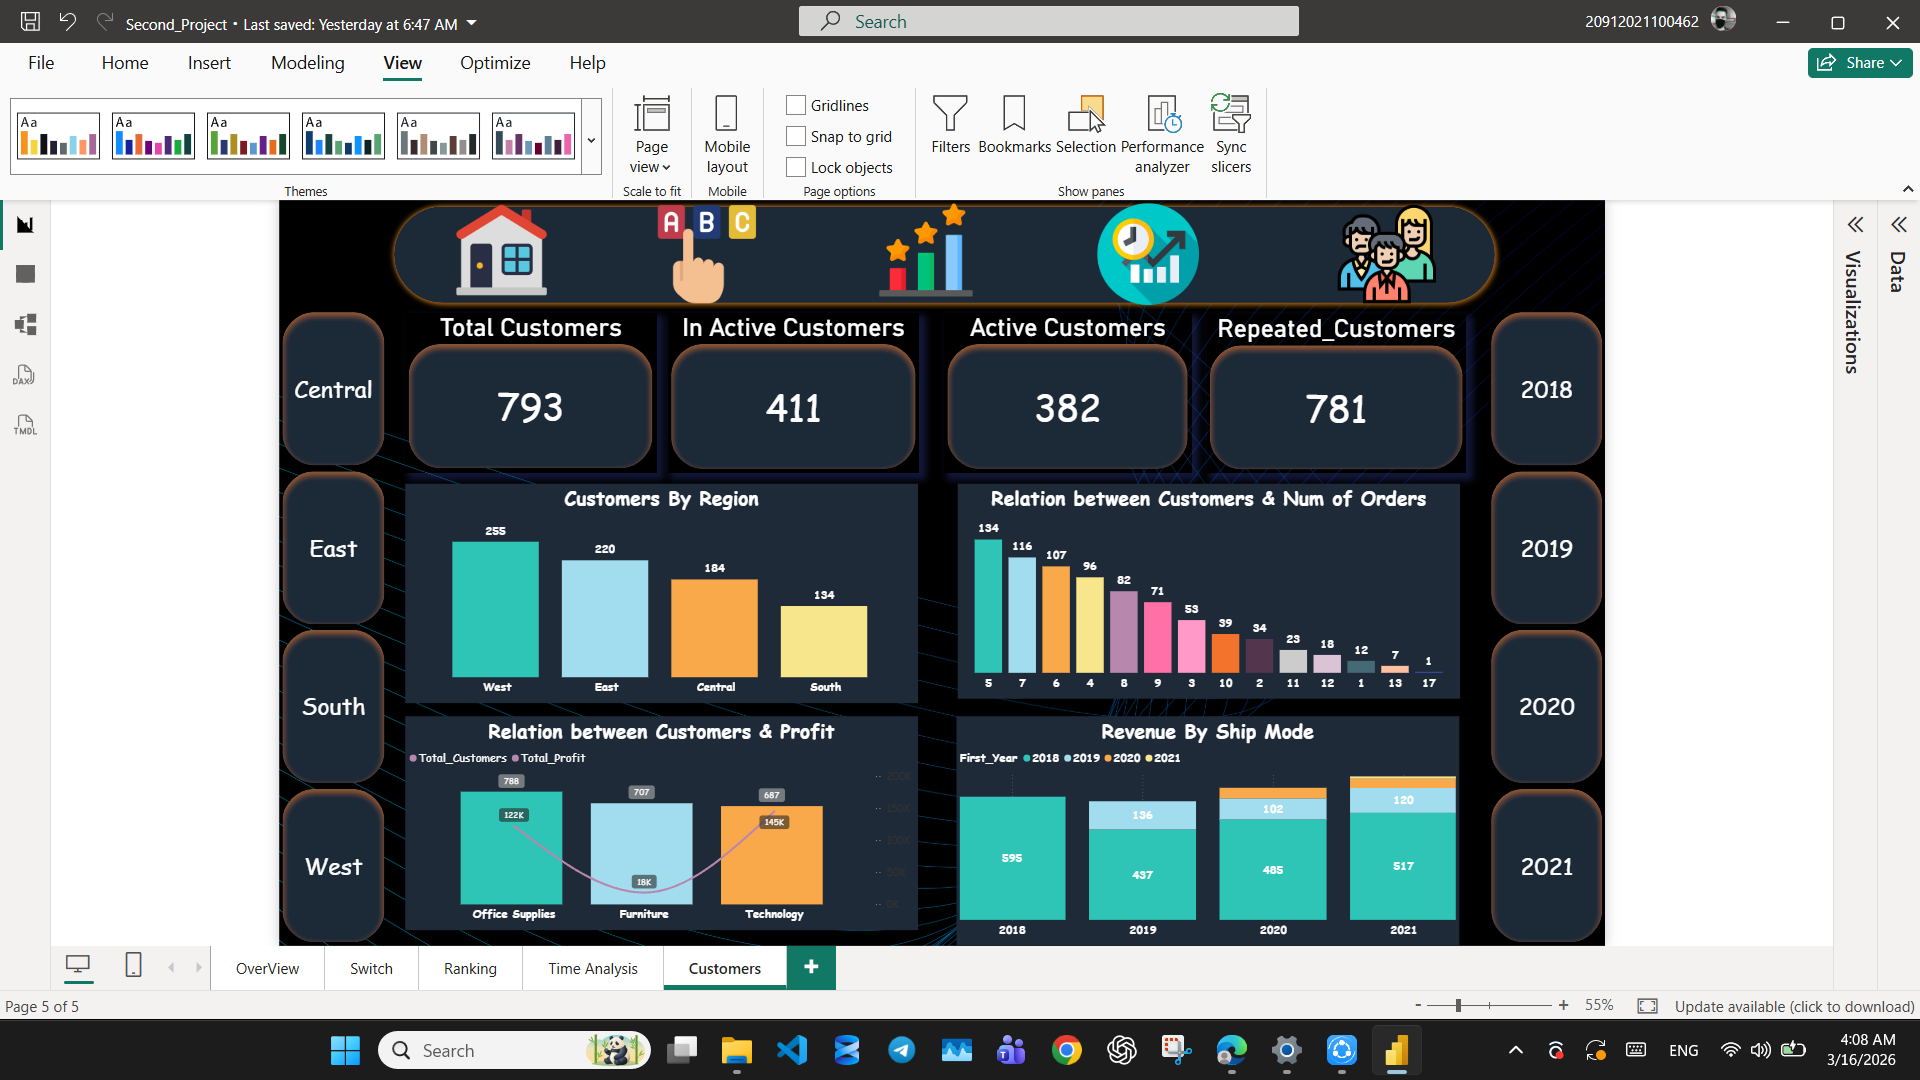

Layout of this report page (visuals, bound fields, positions):
{"tool":"powerbi","page":{"name":"Customers","canvas":[1920,1080],"ordinal":4},"visuals":[{"type":"card","title":"Active Customers","fields":{"Values":["Dax.Active_Customers"]},"box":[1016,182,428,212],"z":2000},{"type":"shape","box":[158,0,1762,158],"z":3000},{"type":"card","title":"In Active Customers","fields":{"Values":["Dax.In Active_Customers"]},"box":[562,182,438,212],"z":6000},{"type":"card","title":"Repeated_Customers","fields":{"Values":["Dax.Repeated_Customers"]},"box":[1464,182,456,212],"z":7000},{"type":"card","title":"Total Customers","fields":{"Values":["Dax.Total_Customers"]},"box":[182,182,364,212],"z":8000},{"type":"columnChart","title":"Revenue By Ship Mode","fields":{"Y":["Dax.Total_Customers"],"Category":["Calendar_Table.Year"],"Series":["Dim_Customer.First_Year"]},"box":[1050,748,870,332],"z":9000},{"type":"clusteredColumnChart","title":"Relation between Customers & Num of Orders","fields":{"Category":["Dim_Customer.Num_OfOrders"],"Y":["Dax.Total_Customers"]},"box":[1050,410,870,312],"z":10000},{"type":"clusteredColumnChart","title":"Customers By Region","fields":{"Category":["Dim_Customer.Region"],"Y":["Dax.Total_Customers"]},"box":[182,412,848,316],"z":11000},{"type":"lineStackedColumnComboChart","title":"Relation between Customers & Profit","fields":{"Category":["Dim_Product.Category"],"Y2":["Dax.Total_Profit"],"Y":["Dax.Total_Customers"]},"box":[182,748,834,310],"z":12000},{"type":"image","box":[230.7,0,184.2,144.8],"z":13000},{"type":"image","box":[606,0,158,158],"z":14000},{"type":"image","box":[1692,0,156,158],"z":15000},{"type":"image","box":[952,0,158,144],"z":16000},{"type":"image","box":[1346,0,158,158],"z":17000},{"type":"advancedSlicerVisual","fields":{"Values":["Dim_Customer.Region"]},"box":[0,160,158.3,406.7],"z":17001},{"type":"advancedSlicerVisual","fields":{"Values":["Calendar_Table.Year"]},"box":[0,585.7,158.6,494.3],"z":17002}]}

Visuals, with their boxes on the page's 1920x1080 design canvas (x1, y1, x2, y2). These are canvas units, not pixel positions in the 1920x1080 screenshot, which may show the page scaled, cropped or inside an application window:
"Active Customers" card: region(1016, 182, 1444, 394)
shape: region(158, 0, 1920, 158)
"In Active Customers" card: region(562, 182, 1000, 394)
"Repeated_Customers" card: region(1464, 182, 1920, 394)
"Total Customers" card: region(182, 182, 546, 394)
"Revenue By Ship Mode" columnChart: region(1050, 748, 1920, 1080)
"Relation between Customers & Num of Orders" clusteredColumnChart: region(1050, 410, 1920, 722)
"Customers By Region" clusteredColumnChart: region(182, 412, 1030, 728)
"Relation between Customers & Profit" lineStackedColumnComboChart: region(182, 748, 1016, 1058)
image: region(231, 0, 415, 145)
image: region(606, 0, 764, 158)
image: region(1692, 0, 1848, 158)
image: region(952, 0, 1110, 144)
image: region(1346, 0, 1504, 158)
advancedSlicerVisual - Dim_Customer.Region: region(0, 160, 158, 567)
advancedSlicerVisual - Calendar_Table.Year: region(0, 586, 159, 1080)
